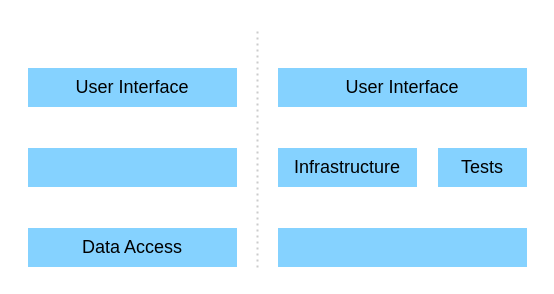
Image size: 554x294. Some labels were removed from this diagram. The shapes that lost their labels are listed below. From the top down, each one's centre as x and y in pixels, then its label:
point 132,167: Business Logic
point 402,247: Application Core
